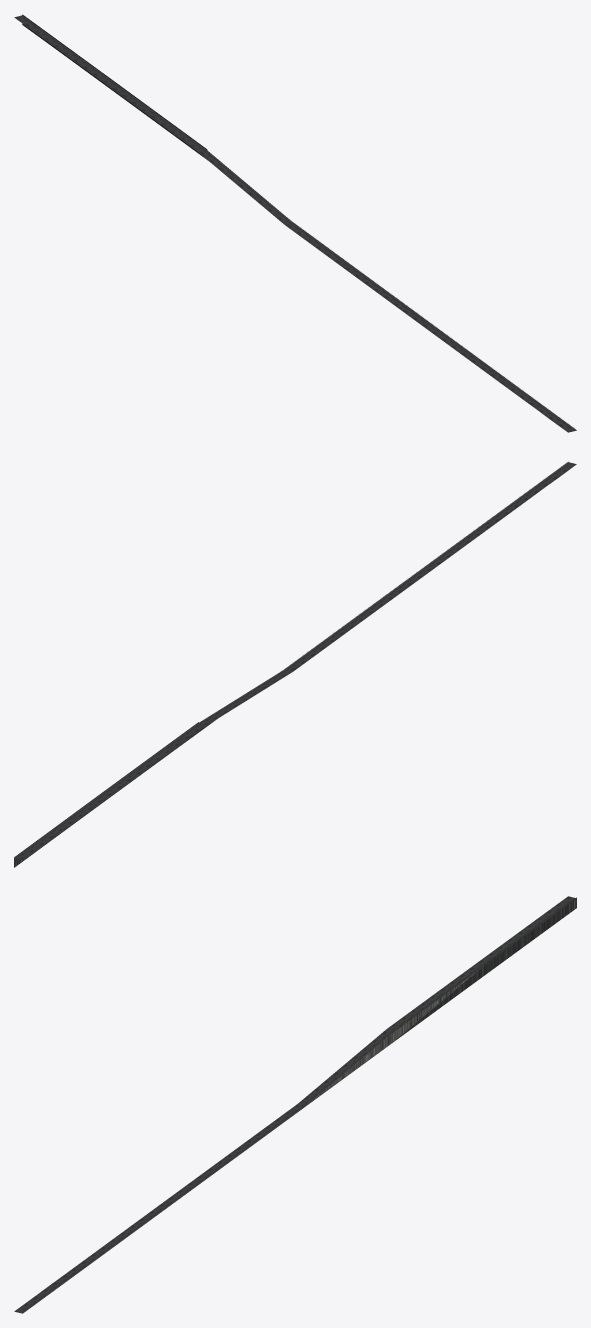
Rendered from road.fbx.
3 views of the same model, one above another, from view 1: azimuth 30°, elevation 25°; view 2: azimuth 150°, elevation 25°; view 3: azimuth 330°, elevation 25° (orthographic).
Parts seen in each view (by area): view 1: Procedural Road.003; view 2: Procedural Road.003; view 3: Procedural Road.003.
Part boxes in pixels (x1,y1,x2,y2): Procedural Road.003: [14, 14, 576, 432]; Procedural Road.003: [14, 461, 576, 867]; Procedural Road.003: [14, 896, 576, 1313].
Size of the model in its own units: 650 by 765 by 69895.
1 material, 1 textured.
